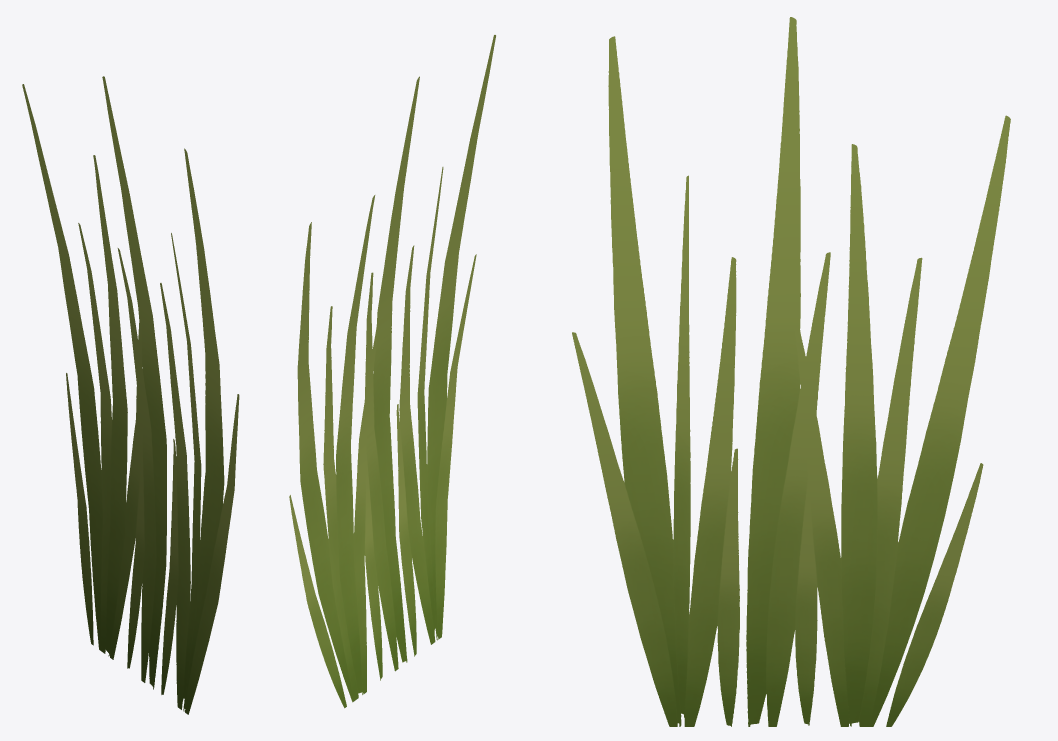
Rendered from Grass.fbx.
The picture shows the model from 3 angles, left to right: view 1: azimuth 30°, elevation 25°; view 2: azimuth 150°, elevation 25°; view 3: azimuth 270°, elevation 25°; orthographic projection. The views are drawn at different scales.
Visible parts, largest first — view 1: Grass01; view 2: Grass01; view 3: Grass01.
Boxes of the visible parts, left/top/right/bottom form: Grass01: left=22, top=76, right=239, bottom=714; Grass01: left=289, top=35, right=495, bottom=708; Grass01: left=572, top=17, right=1010, bottom=726.
Bounding box in the file's own units: 0.885 × 11.08 × 7.3.
